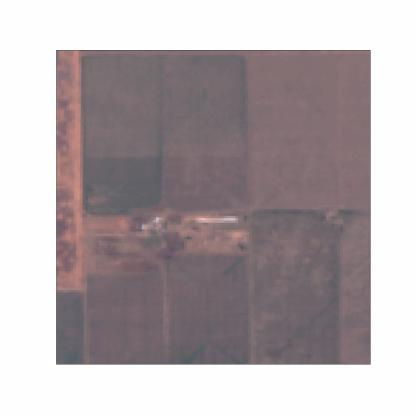silobolsa: (195, 216, 239, 223)
